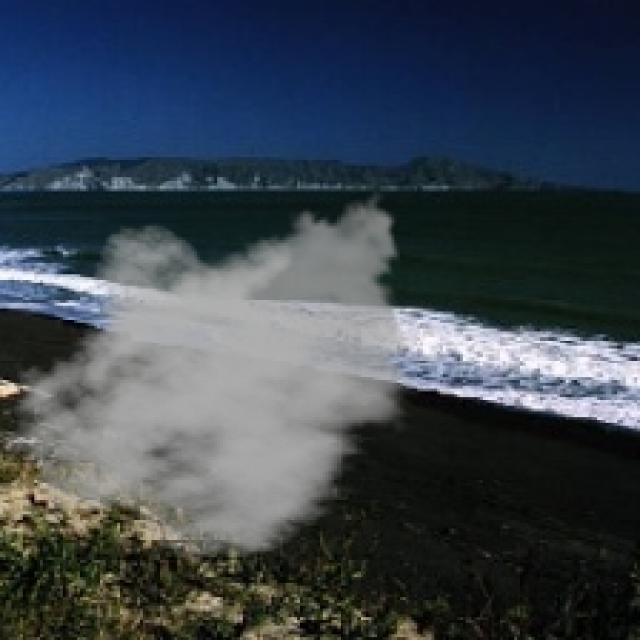Smoke: (0, 185, 423, 560)
